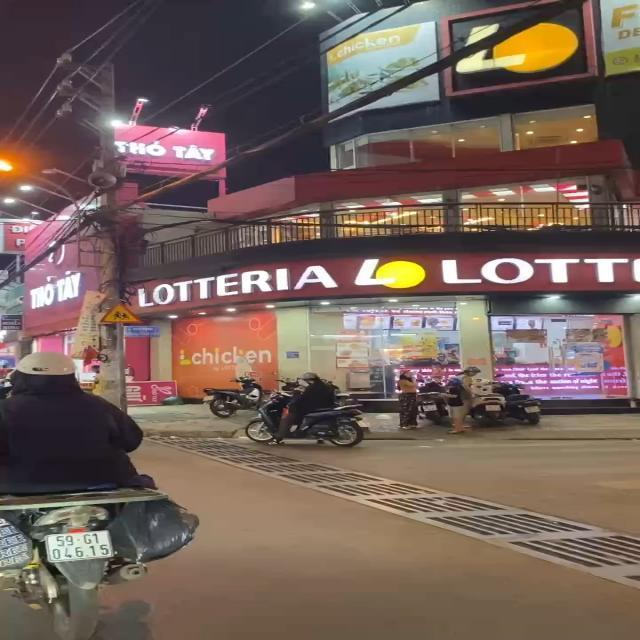225-chu-y-tre-em: (100, 302, 144, 326)
